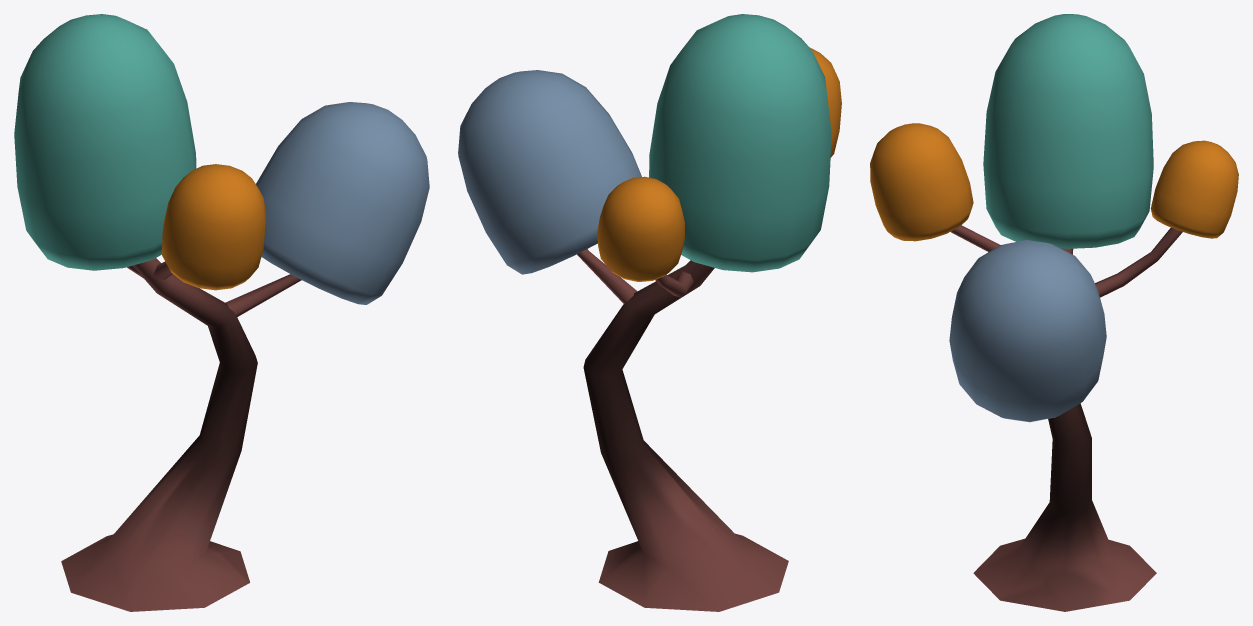
File: Tree2.fbx
3 renders of one model, left to right at view 1: azimuth 30°, elevation 25°; view 2: azimuth 150°, elevation 25°; view 3: azimuth 270°, elevation 25°, orthographic. The views are drawn at different scales.
Visible parts, largest first — view 1: Circle.003; view 2: Circle.003; view 3: Circle.003.
Part boxes in pixels (x1=…): Circle.003: x1=14, y1=14, x2=429, y2=611; Circle.003: x1=458, y1=14, x2=841, y2=611; Circle.003: x1=870, y1=14, x2=1238, y2=611.
Size of the model in its own units: 3.94 by 5.71 by 3.61.
